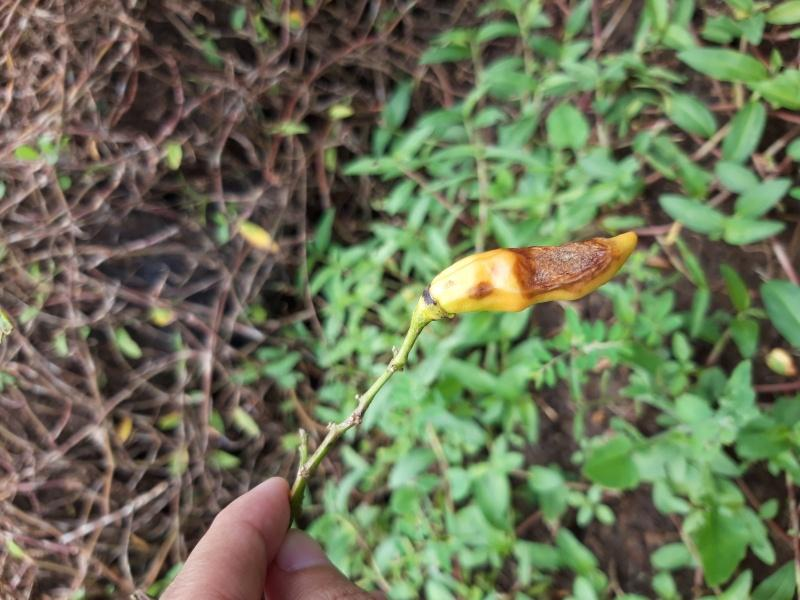antraknosa: (423, 232, 636, 314)
